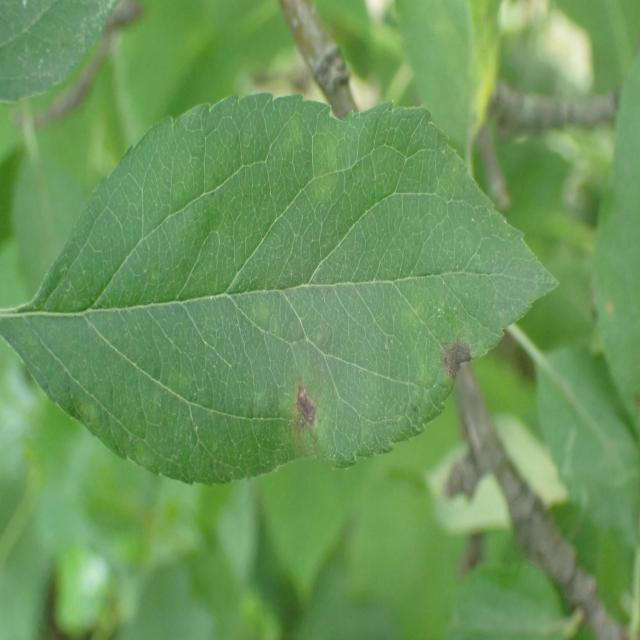scab: (86, 126, 538, 444)
